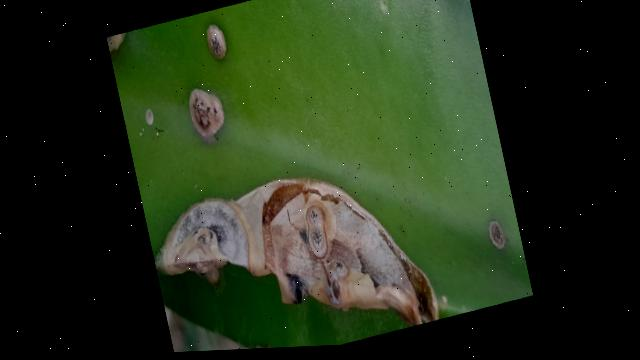stemcanker: (187, 85, 228, 146), (205, 21, 228, 64), (486, 217, 508, 252)
